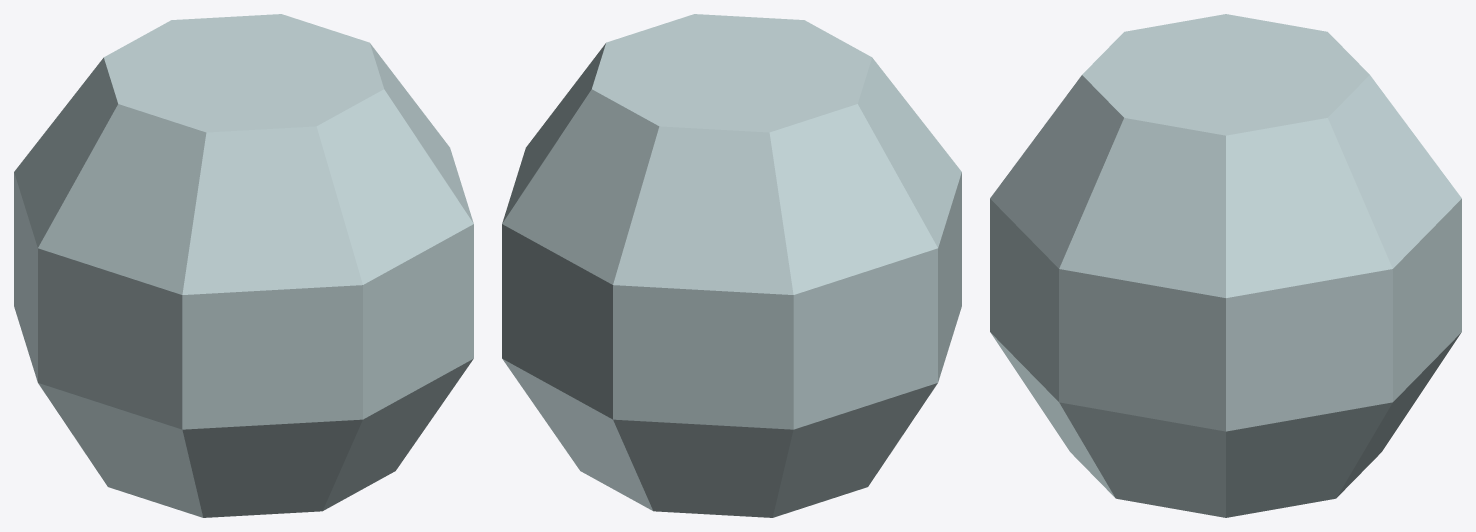
The model's file is stone_smallH.gltf.
3 views of the same model, side by side, from view 1: azimuth 30°, elevation 25°; view 2: azimuth 150°, elevation 25°; view 3: azimuth 270°, elevation 25° (orthographic).
Visible parts, largest first — view 1: stone_smallH; view 2: stone_smallH; view 3: stone_smallH.
Part boxes in pixels (bbox=[...]): stone_smallH: bbox=[14, 14, 473, 517]; stone_smallH: bbox=[502, 14, 961, 517]; stone_smallH: bbox=[990, 14, 1461, 517].
Bounding box in the file's own units: 0.4618 × 0.4074 × 0.4618.
